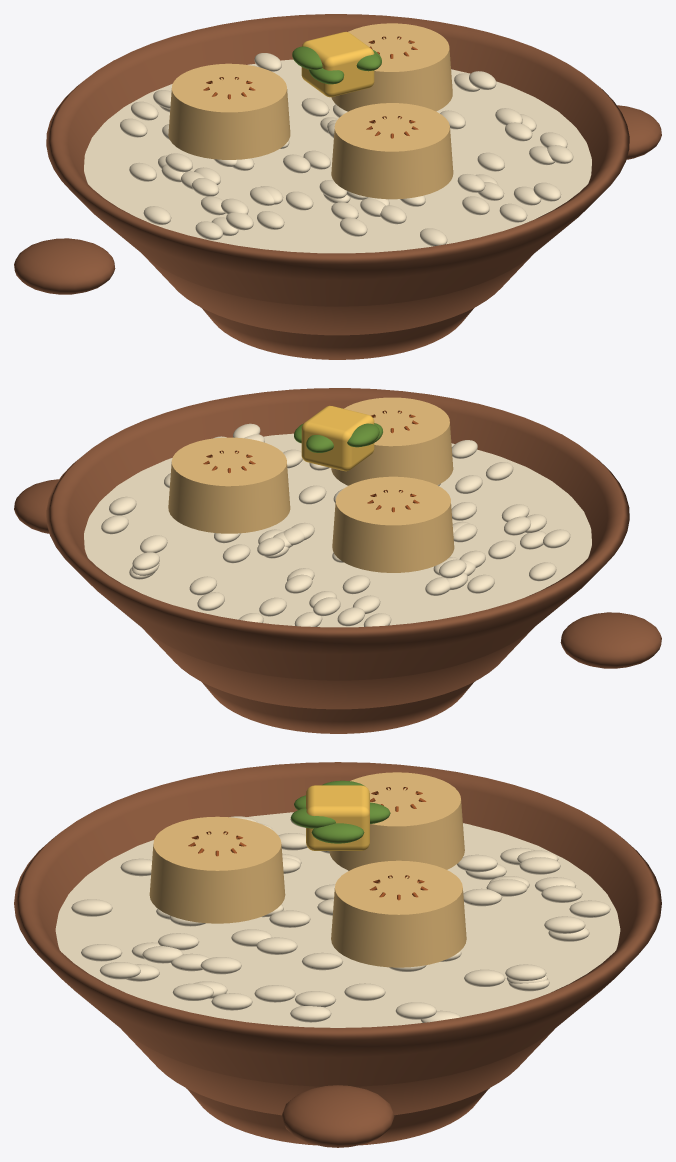
The model's file is 29-scallop-rice.glb.
The picture shows the model from 3 angles, top to bottom: view 1: azimuth 30°, elevation 25°; view 2: azimuth 150°, elevation 25°; view 3: azimuth 270°, elevation 25°; orthographic projection. The views are drawn at different scales.
Visible parts, largest first — view 1: 간장 버터 관자 솥밥; view 2: 간장 버터 관자 솥밥; view 3: 간장 버터 관자 솥밥.
Boxes of the visible parts, x1,y1,x2,y2 form: 간장 버터 관자 솥밥: (14,14,661,359); 간장 버터 관자 솥밥: (14,388,661,733); 간장 버터 관자 솥밥: (14,762,661,1147).
Size of the model in its own units: 2.16 by 0.845 by 1.72.
